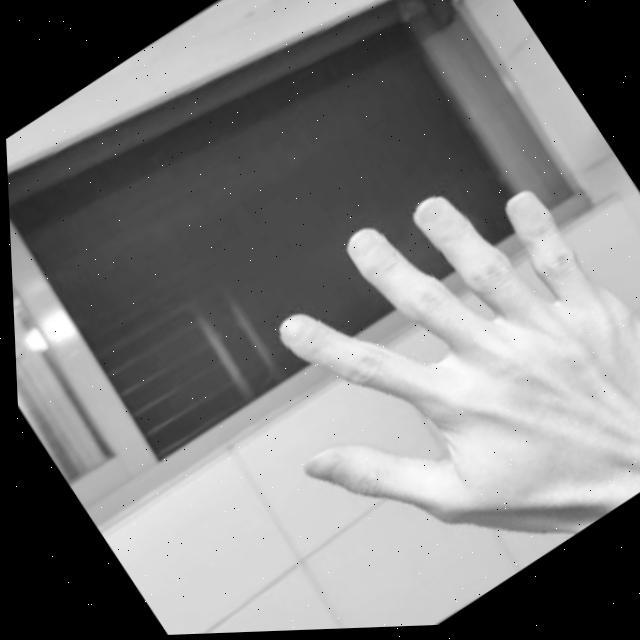no-gloves: (195, 112, 640, 634)
